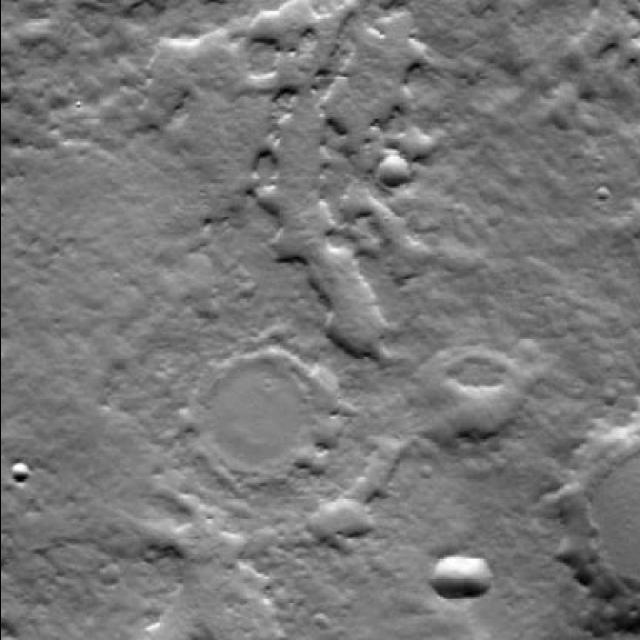crater: (188, 343, 330, 489), (429, 552, 473, 598), (452, 555, 492, 596), (379, 152, 413, 186), (10, 462, 28, 480)
